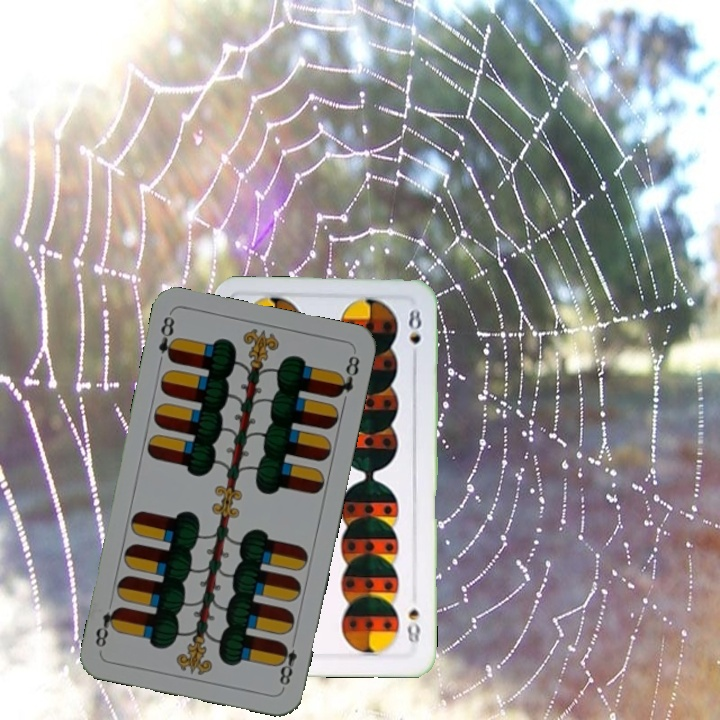E8: (274, 633, 300, 691), (154, 312, 180, 365)
S8: (403, 605, 423, 646)
